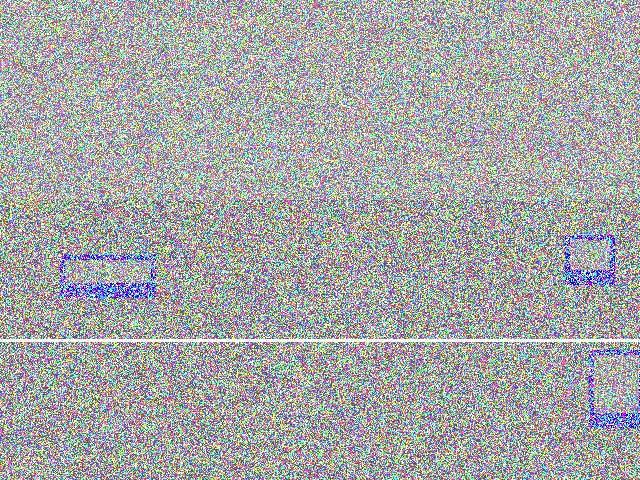bus: (388, 213, 466, 356)
